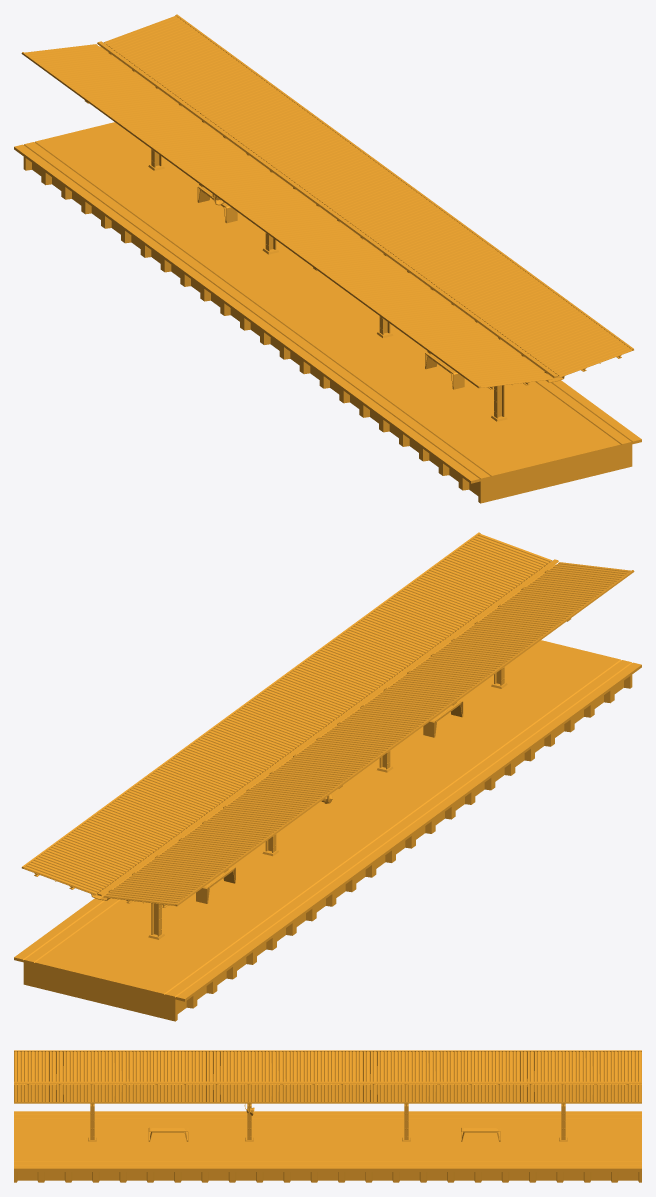
The model's file is SM_Train_Platform_B.fbx.
The picture shows the model from 3 angles, top to bottom: view 1: azimuth 30°, elevation 25°; view 2: azimuth 150°, elevation 25°; view 3: azimuth 270°, elevation 25°; orthographic projection. The views are drawn at different scales.
Visible parts, largest first — view 1: SM_Train_Platform_B; view 2: SM_Train_Platform_B; view 3: SM_Train_Platform_B.
Part boxes in pixels (bbox=[...]): SM_Train_Platform_B: bbox=[14, 14, 641, 503]; SM_Train_Platform_B: bbox=[14, 532, 641, 1021]; SM_Train_Platform_B: bbox=[14, 1050, 641, 1182].
Bounding box in the file's own units: 6.49 × 4.25 × 30.
